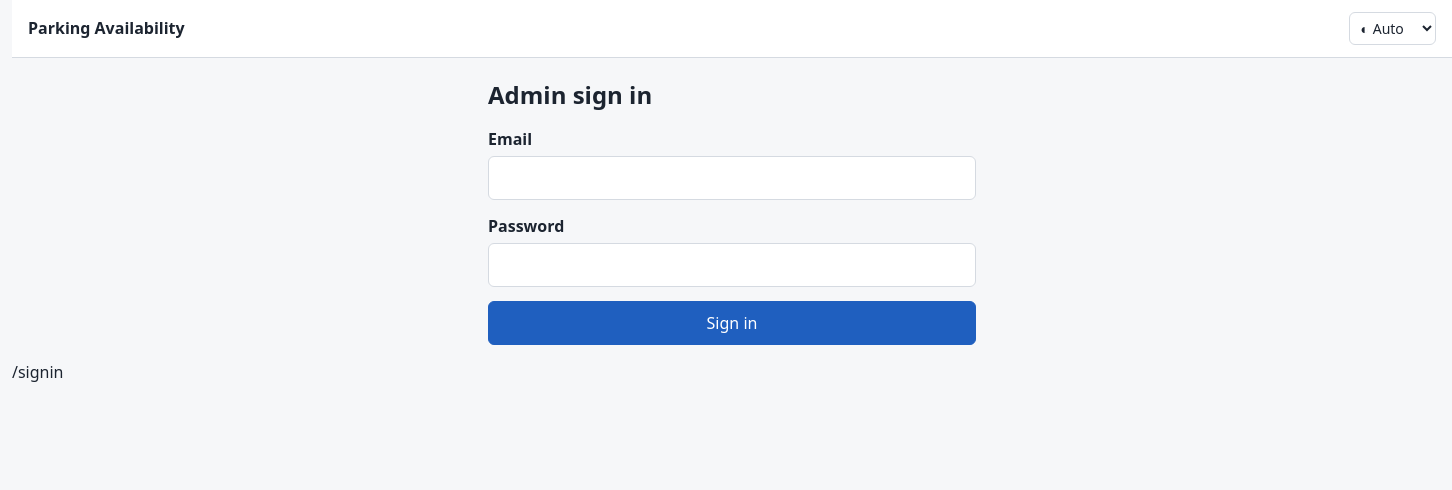
RequireAdmin › shows the wrong-password message on 401
Type "a@b.c" into the field labelled "Email". click: (732, 178)
box: [488,156,976,200]
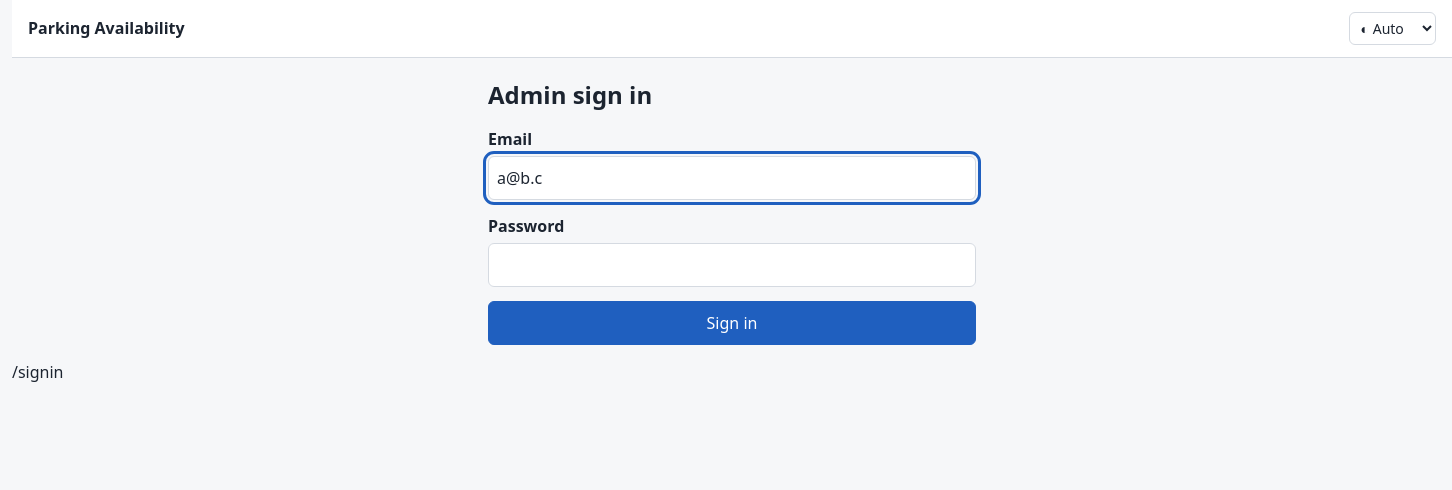
Type "bad" into the password field labelled "Password". click: (732, 265)
box: [488,243,976,287]
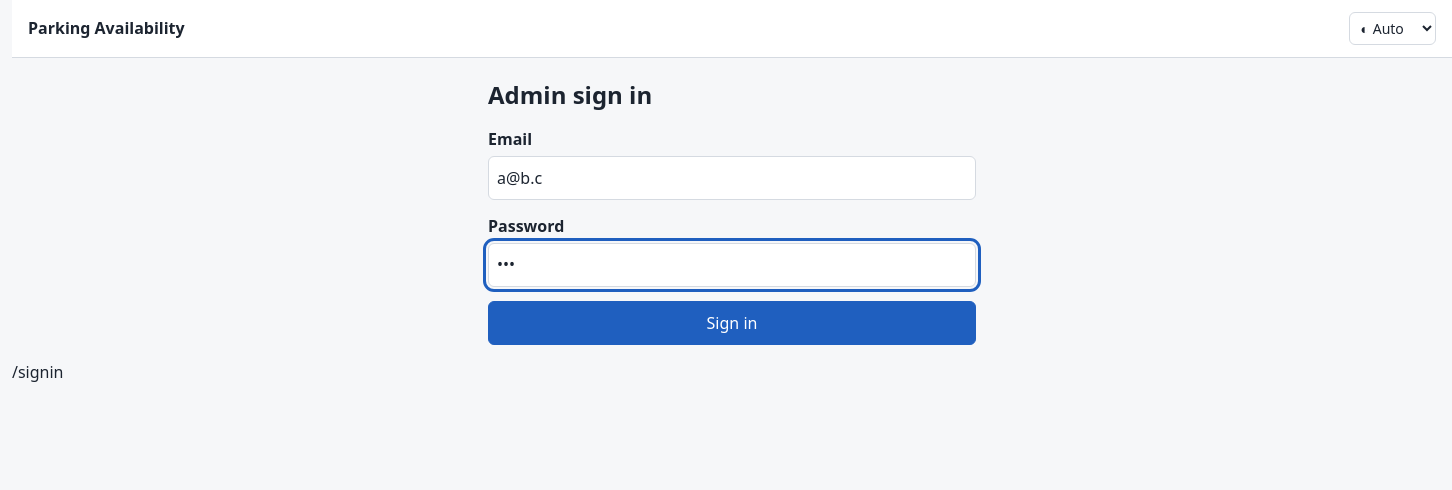
Click the button "Sign in". click: (732, 323)
box: [488,301,976,345]
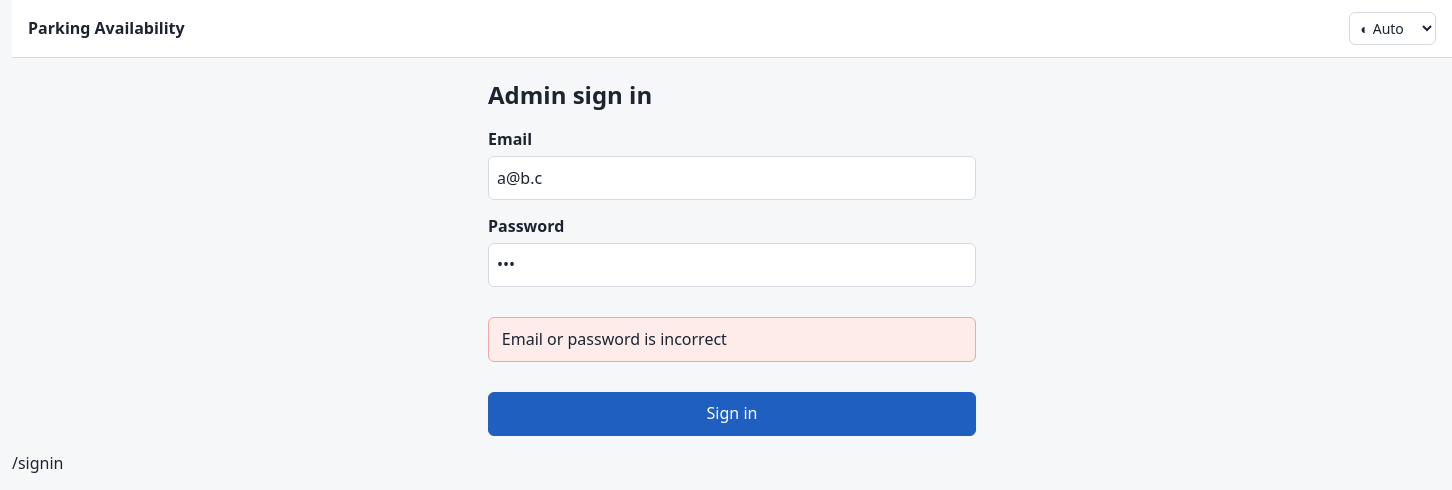
Expected: the text "Email or password is incorrect" is shown, [488,317,976,362]
